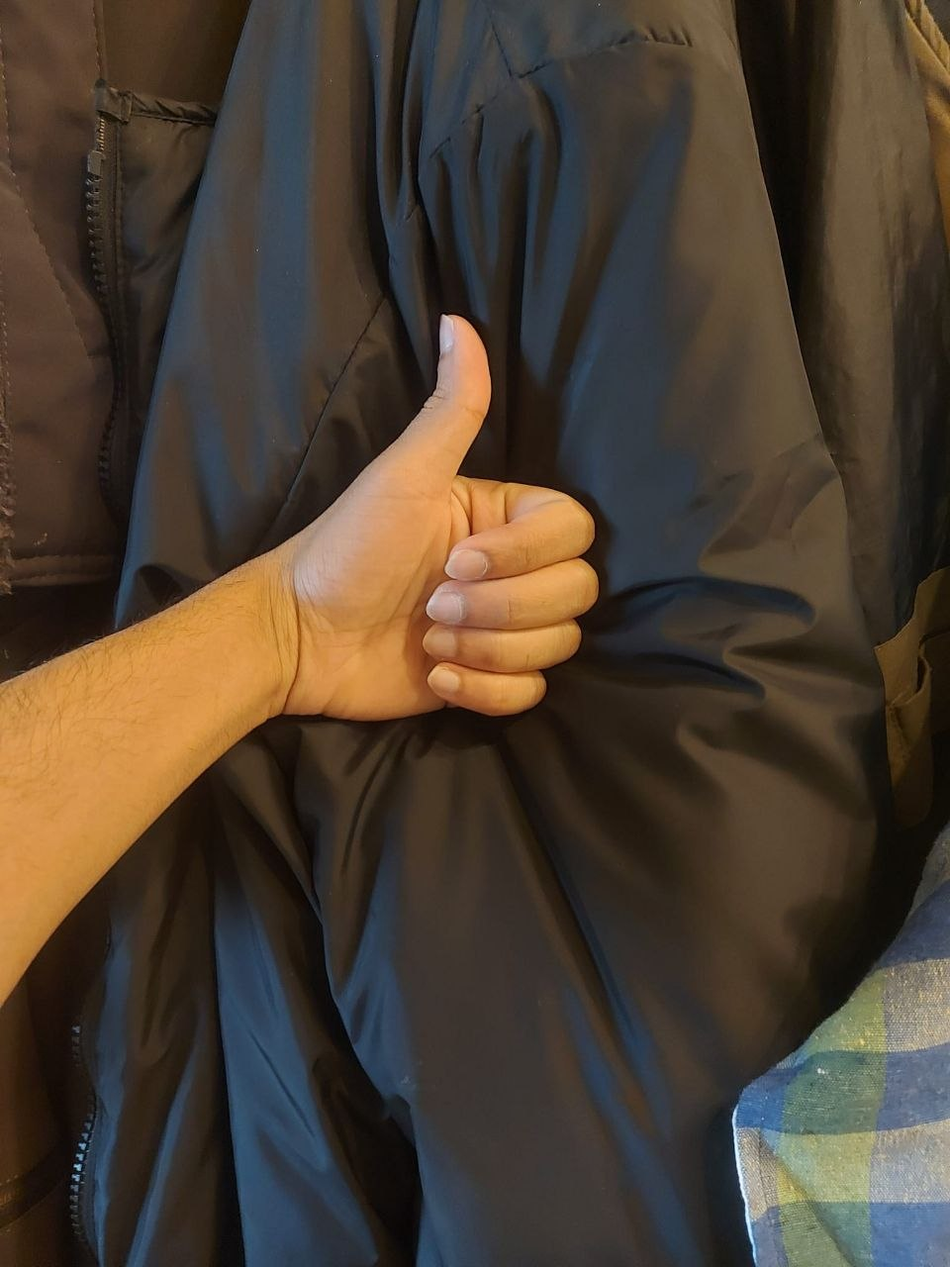Thumbs up: (253, 241, 697, 785)
